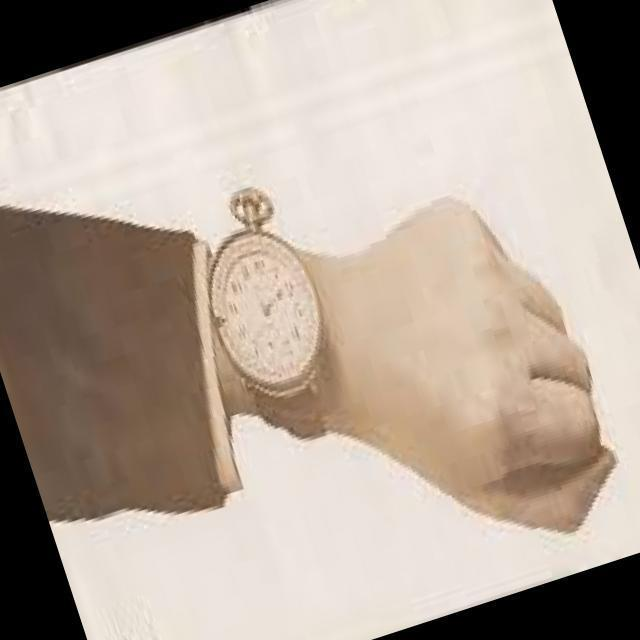Watch: (205, 184, 332, 440)
